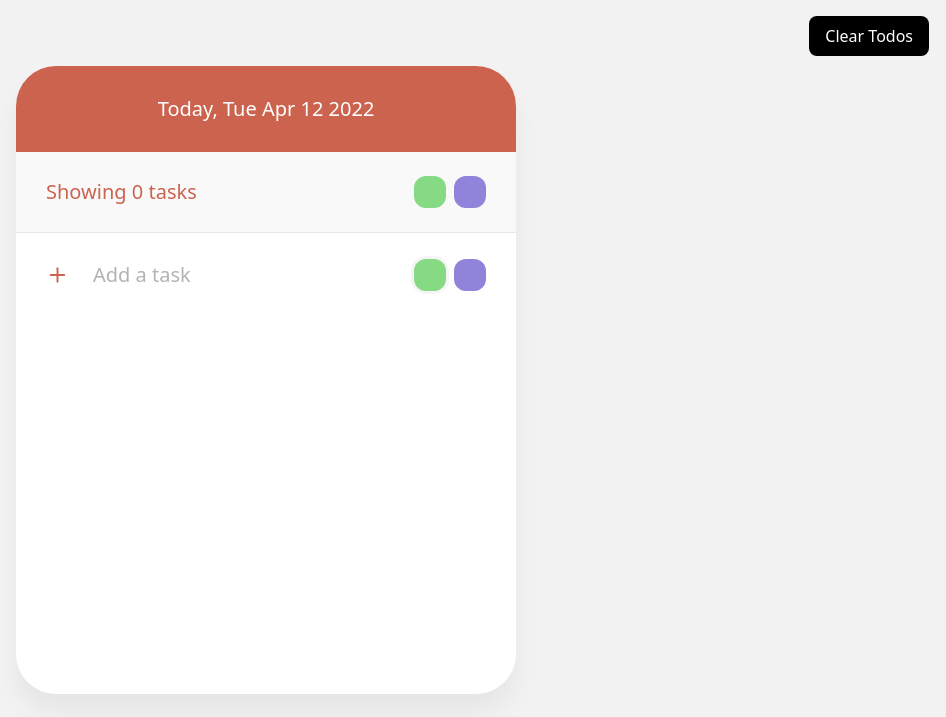
it: On filter click › component should be on screen and show filtering and number of tasks
The image size is (946, 717).
Click the element with test id "green-filter-btn" at (430, 192), box [414,176,446,208]
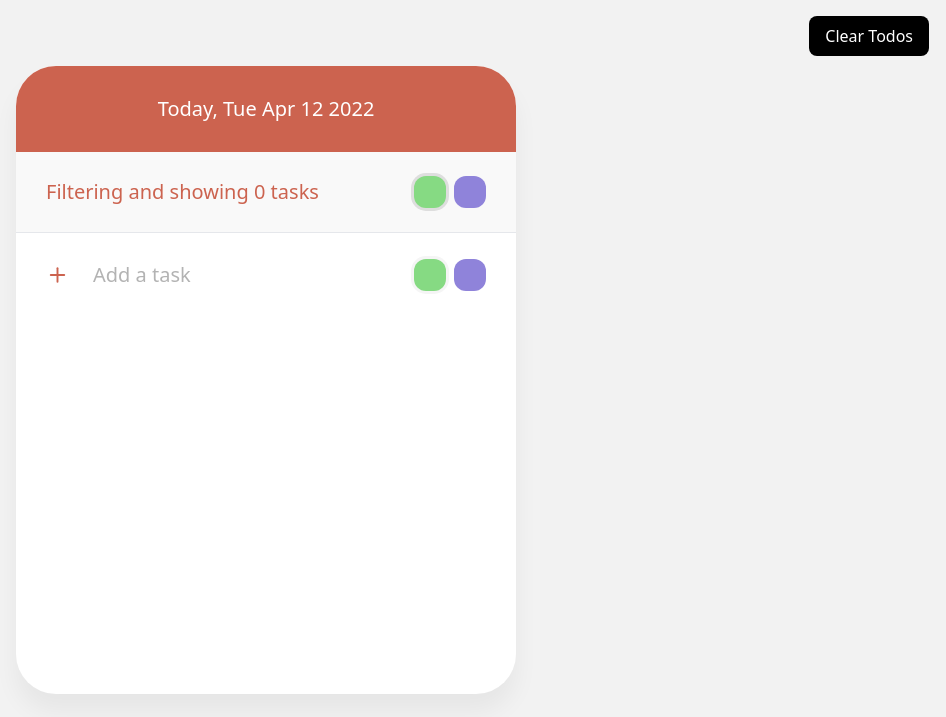
Expected: the element with test id "counter-filter-component" reads "Filtering and showing 0 tasks", [16,152,516,232]
